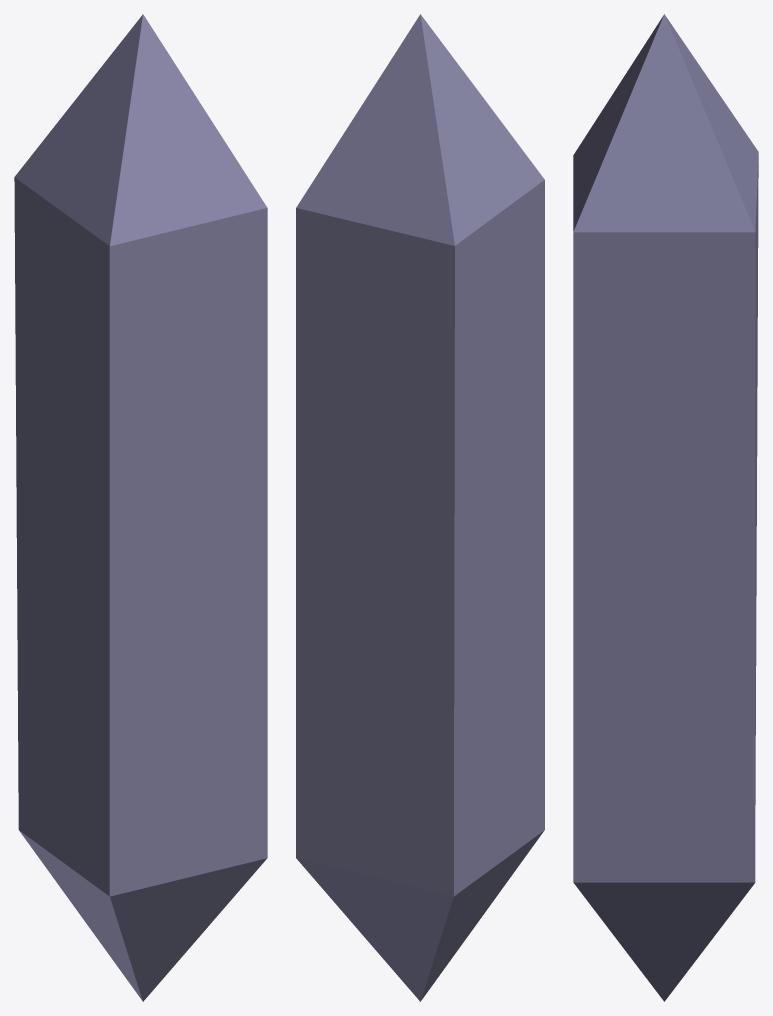
Rendered from obelisk2.fbx.
3 renders of one model, left to right at view 1: azimuth 30°, elevation 25°; view 2: azimuth 150°, elevation 25°; view 3: azimuth 270°, elevation 25°, orthographic.
Parts seen in each view (by area): view 1: Cube; view 2: Cube; view 3: Cube.
Boxes of the visible parts, x1,y1,x2,y2 form: Cube: [14, 14, 267, 1001]; Cube: [296, 14, 544, 1001]; Cube: [573, 14, 758, 1001].
Bounding box in the file's own units: 203 × 1197 × 203.
